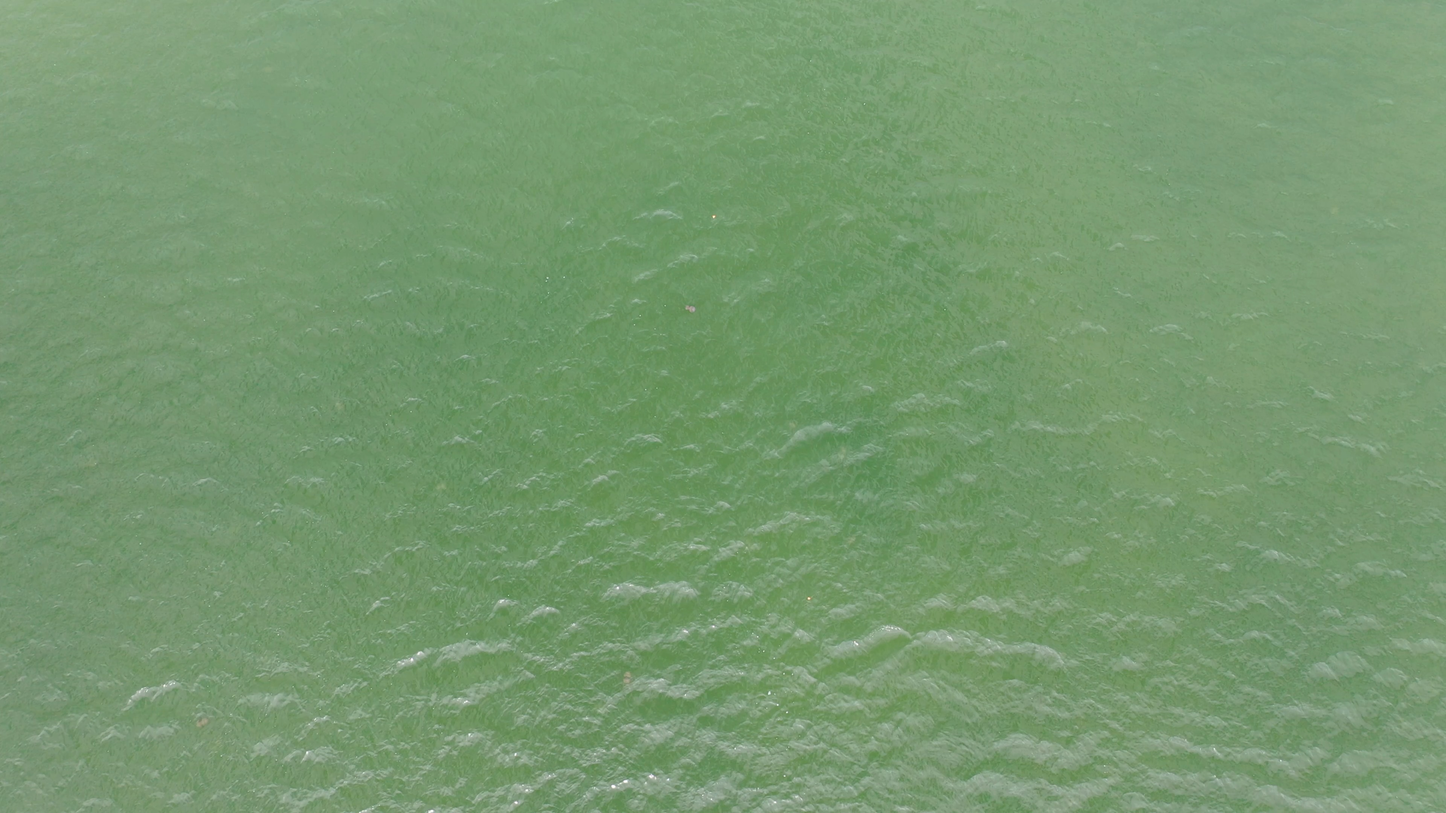meduse: (334, 402, 345, 412), (685, 305, 696, 314), (1330, 206, 1339, 215), (840, 450, 847, 460), (435, 484, 446, 490)
